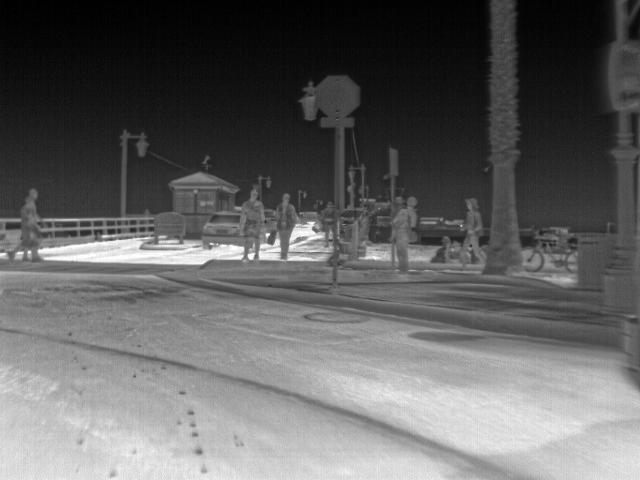car: (203, 210, 245, 249)
person: (238, 189, 267, 260), (456, 199, 487, 264), (390, 195, 414, 276), (272, 193, 296, 259), (18, 198, 39, 260), (315, 200, 337, 244), (428, 235, 452, 264)
